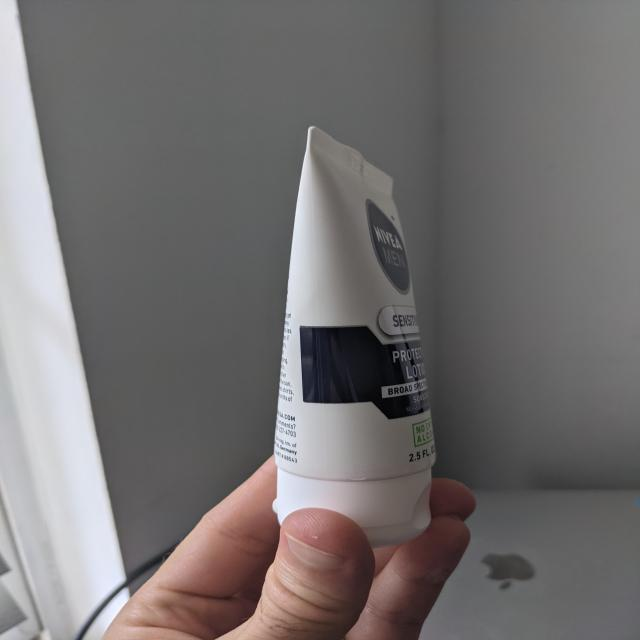litter: (275, 124, 436, 544)
